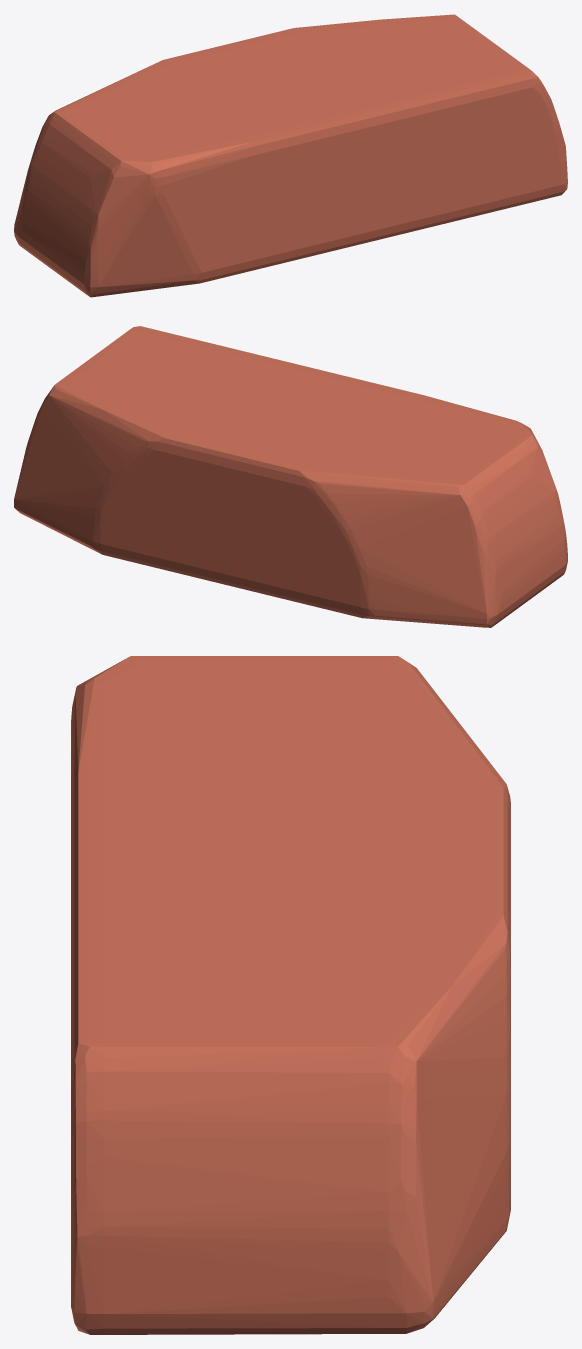
File: right_shoulder_roll_link_part_9.obj
3 views of the same model, one above another, from view 1: azimuth 30°, elevation 25°; view 2: azimuth 150°, elevation 25°; view 3: azimuth 270°, elevation 25° (orthographic). The views are drawn at different scales.
Bounding box in the file's own units: 0.0984 × 0.0259 × 0.0399.
